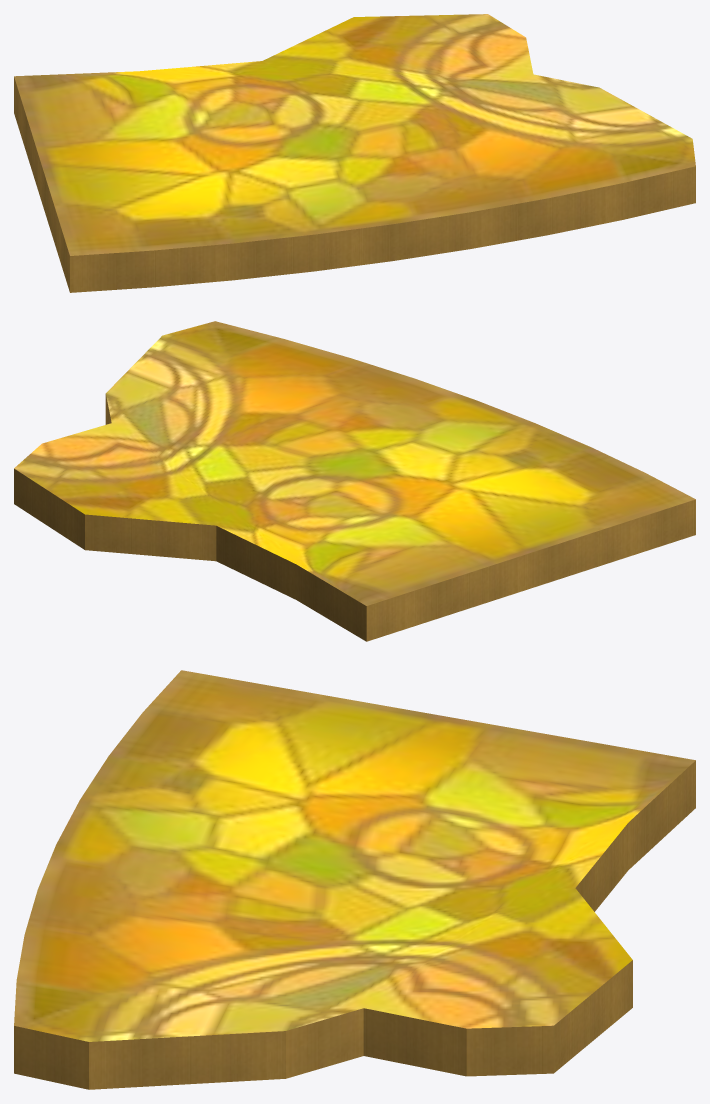
The model's file is lb_chunk_2_3.glb.
3 renders of one model, top to bottom at view 1: azimuth 30°, elevation 25°; view 2: azimuth 150°, elevation 25°; view 3: azimuth 270°, elevation 25°, orthographic. The views are drawn at different scales.
Parts seen in each view (by area): view 1: lb_chunk_2_3; view 2: lb_chunk_2_3; view 3: lb_chunk_2_3.
Boxes of the visible parts, x1=… form: lb_chunk_2_3: x1=14, y1=14, x2=695, y2=292; lb_chunk_2_3: x1=14, y1=321, x2=695, y2=641; lb_chunk_2_3: x1=14, y1=670, x2=695, y2=1089.
Bounding box in the file's own units: 6 × 0.36 × 4.65.
2 materials, 2 textured.
